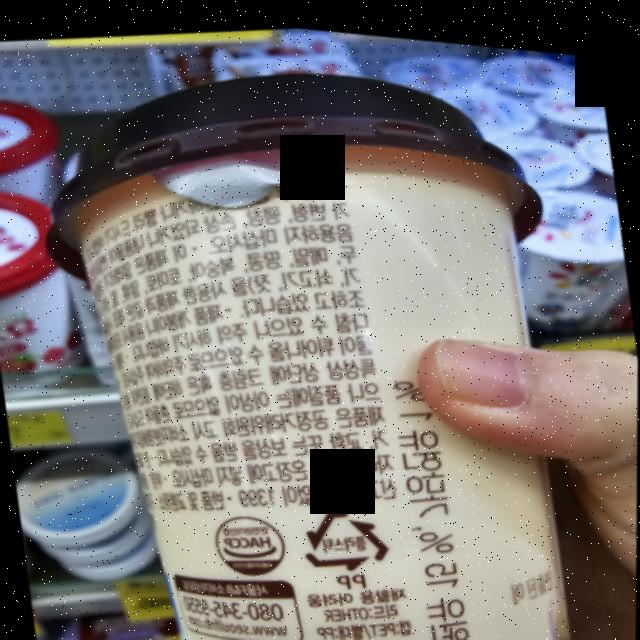Plastic: (297, 490, 396, 574)
